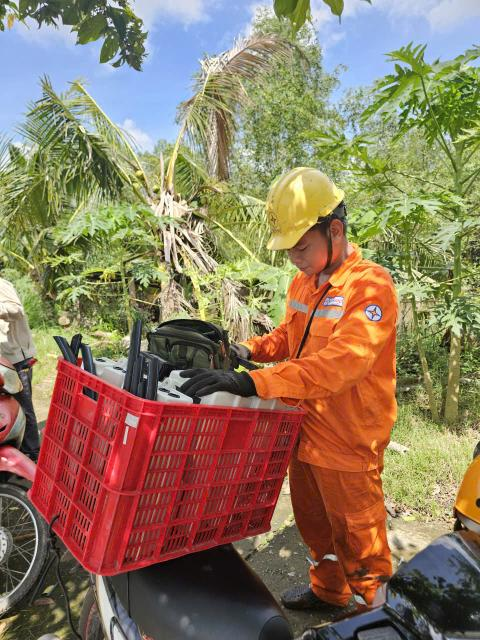gloves: (176, 361, 262, 403), (212, 337, 256, 366)
helmet: (242, 158, 348, 249)
shoes: (268, 576, 349, 623)
